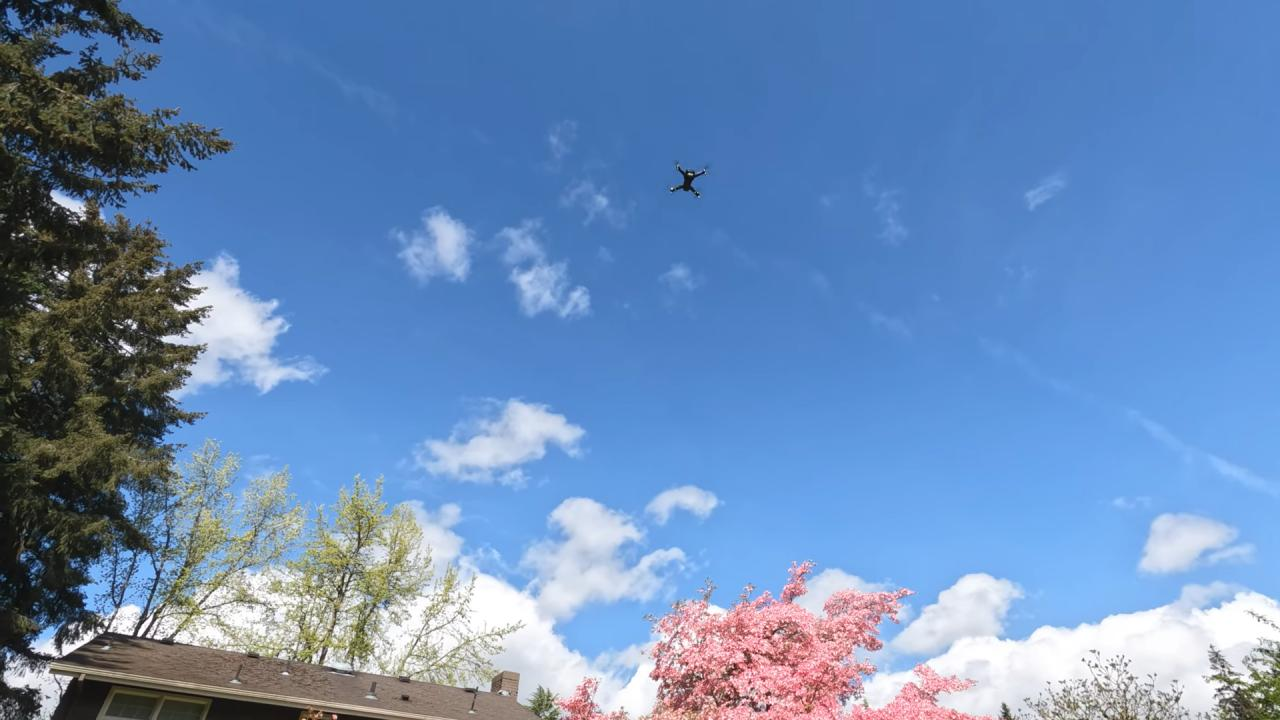Drone: (661, 153, 716, 210)
